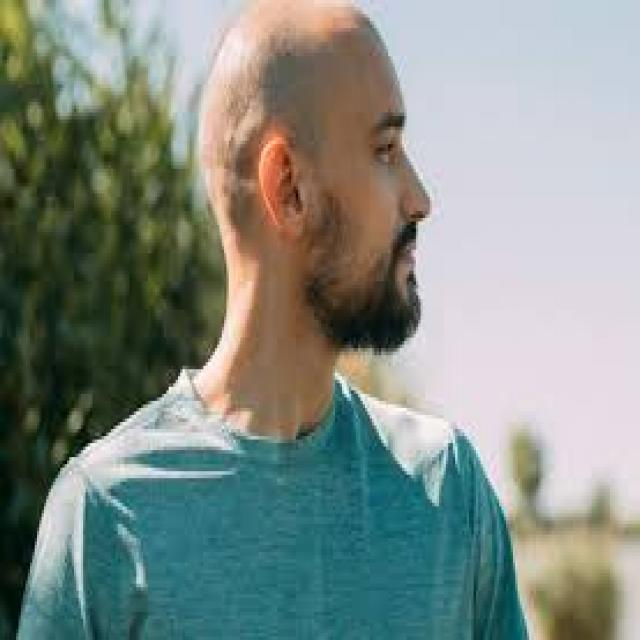bald: (214, 0, 419, 213)
